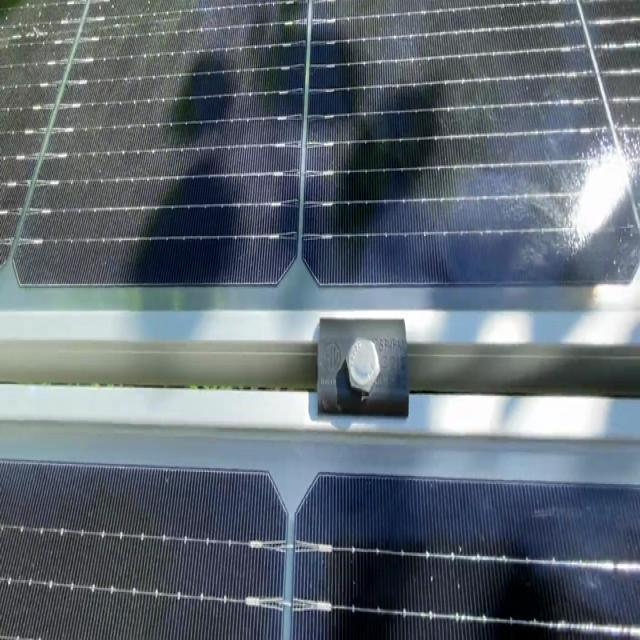Normal Solar Panel: (1, 0, 640, 309), (1, 423, 640, 639)
